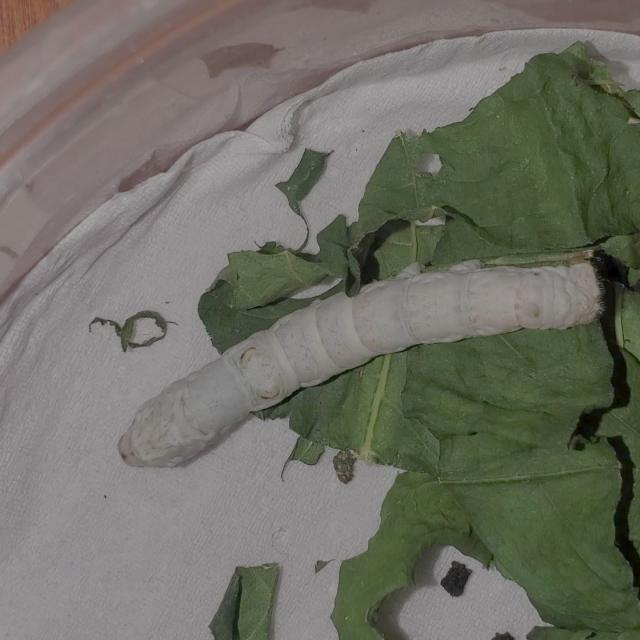Healthy: (102, 230, 608, 498)
